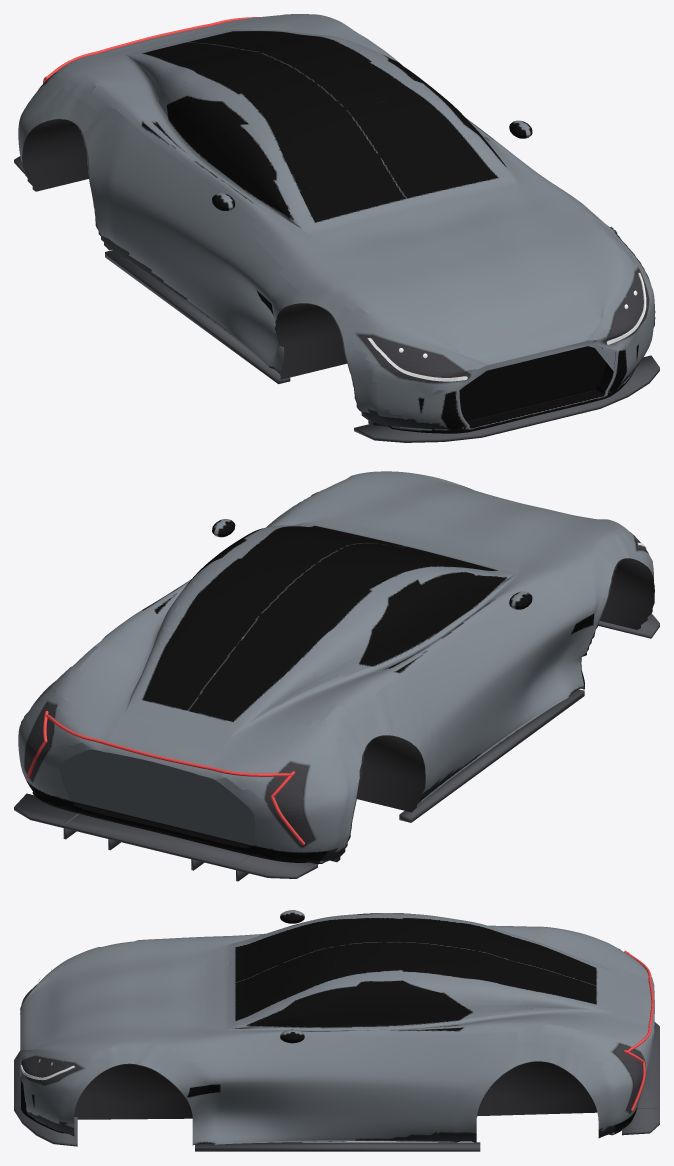
3 views of the same model, one above another, from view 1: azimuth 30°, elevation 25°; view 2: azimuth 150°, elevation 25°; view 3: azimuth 270°, elevation 25° (orthographic). The views are drawn at different scales.
Parts seen in each view (by area): view 1: skin, liner_1, liner_3, carbon_splitter, carbon_skirt_R, housing_head_R, housing_head_L, tail_bar; view 2: skin, carbon_difflip, liner_3, liner_1, carbon_skirt_R, housing_tail_R, housing_tail_L, tail_bar; view 3: skin, liner_0, liner_2, carbon_skirt_L, carbon_difflip, carbon_splitter, housing_head_L, housing_tail_L, tail_bar.
Boxes of the visible parts, x1,y1,x2,y2 form: skin: (18, 14, 654, 433); liner_1: (275, 303, 373, 425); liner_3: (22, 119, 111, 250); carbon_splitter: (354, 355, 659, 442); carbon_skirt_R: (105, 250, 290, 384); housing_head_R: (359, 335, 469, 382); housing_head_L: (604, 269, 648, 343); tail_bar: (44, 17, 259, 78); skin: (18, 471, 653, 864); carbon_difflip: (14, 793, 317, 878); liner_3: (330, 735, 425, 862); liner_1: (580, 558, 654, 689); carbon_skirt_R: (399, 689, 584, 822); housing_tail_R: (266, 763, 313, 847); housing_tail_L: (24, 703, 55, 780); tail_bar: (44, 713, 292, 776); skin: (20, 910, 654, 1145); liner_0: (74, 1063, 192, 1119); liner_2: (477, 1061, 597, 1116); carbon_skirt_L: (195, 1142, 480, 1151); carbon_difflip: (622, 1022, 659, 1135); carbon_splitter: (14, 1051, 77, 1146); housing_head_L: (21, 1056, 80, 1084); housing_tail_L: (614, 1044, 645, 1112); tail_bar: (627, 952, 653, 1053).
Size of the model in its own units: 2.23 by 1.15 by 4.57.
6 materials, 1 textured.
